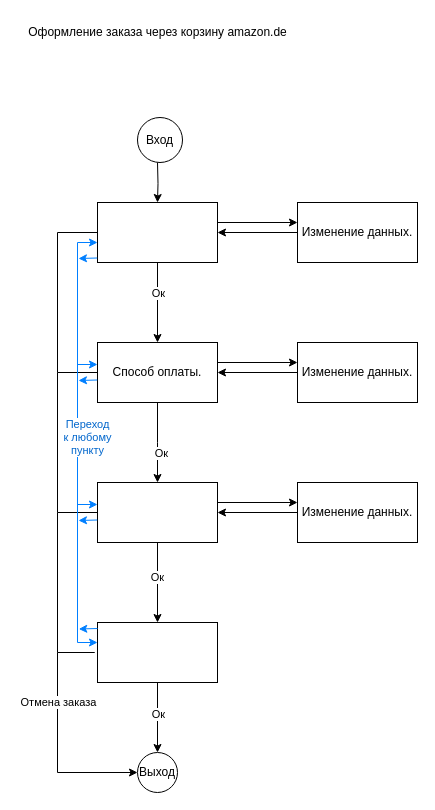
This 435x810 diagram has some shape labels left out. The centre of each missing label's shape, as x and y in pixels:
"Колличество товаров. И возможность доставки по адресу." goes at pixel 157 232.
"Оплата." goes at pixel 157 652.
"Проверка товара и доставки." goes at pixel 157 512.
